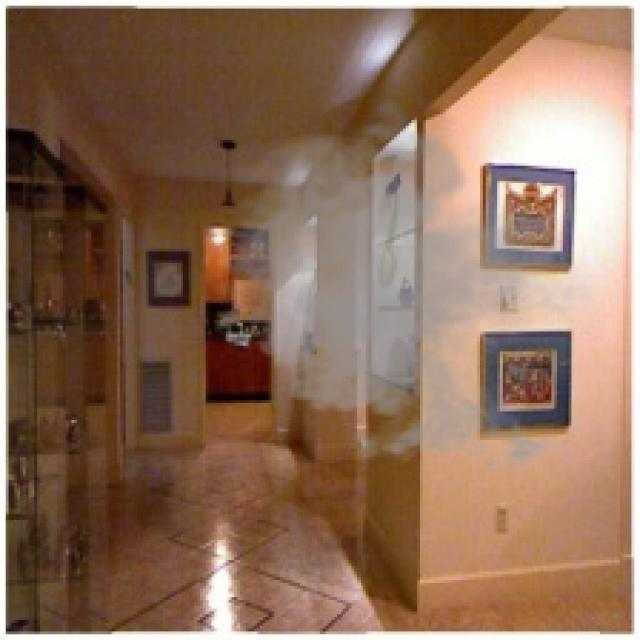Smoke: (203, 97, 620, 483)
